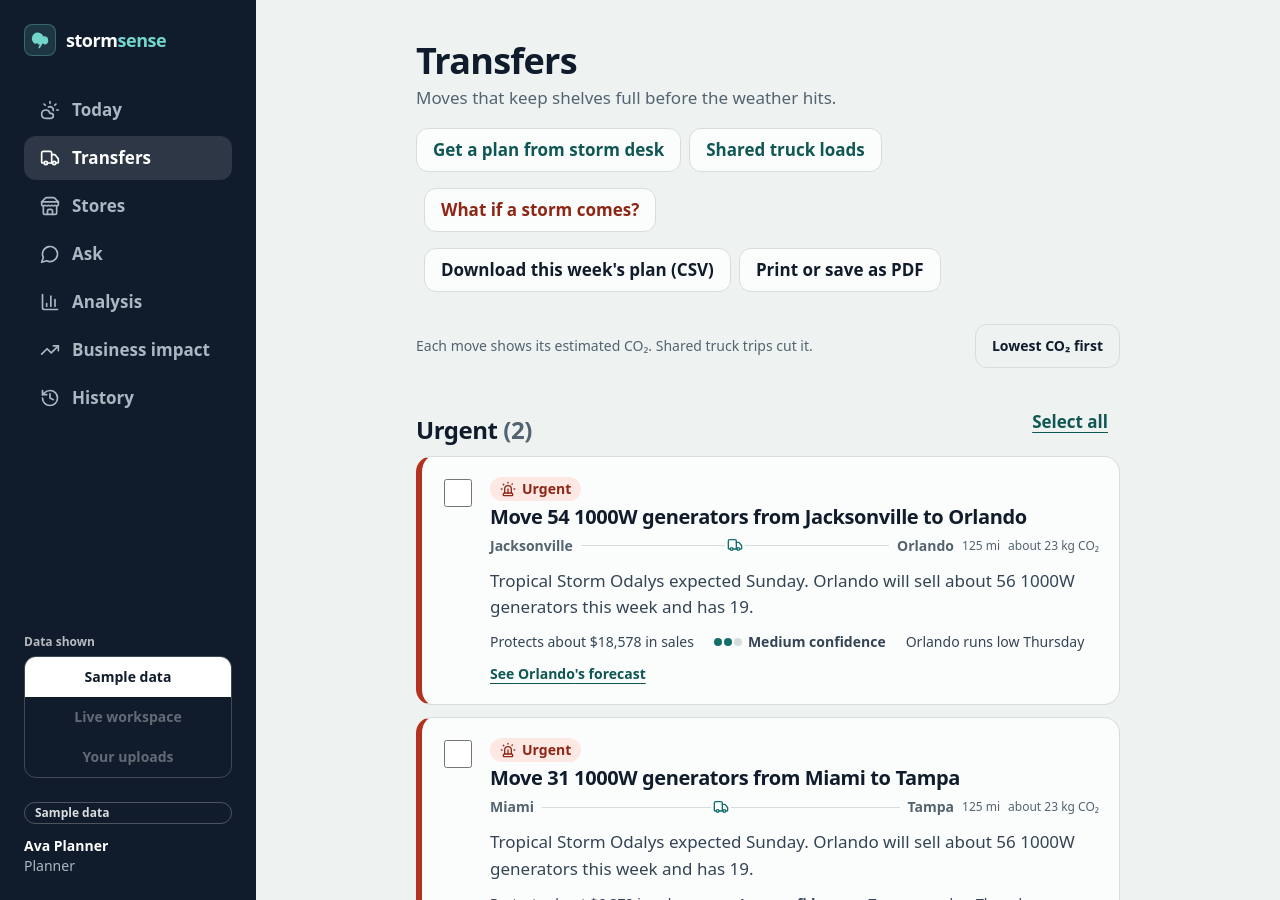
Test: Rejecting a move asks for a reason › keeps Reject disabled until a reason is chosen, then records it
The width and height of the screenshot is (1280, 900).
Click the checkbox labelled "Move 54 1000W generators from Jacksonville to Orlando" at (458, 493), box [444, 479, 472, 507]
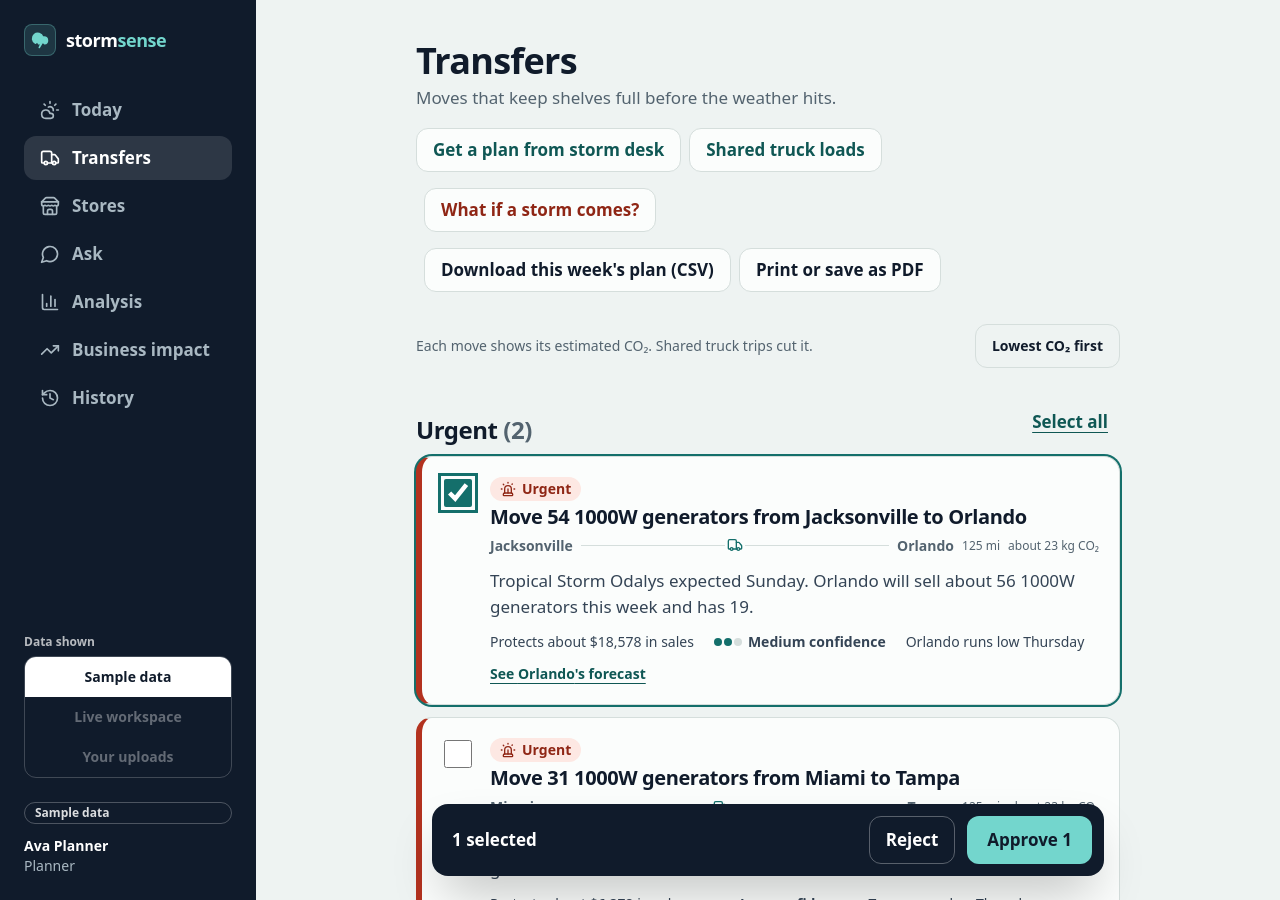
Click the button "Reject" at (912, 840), box [869, 816, 955, 864]
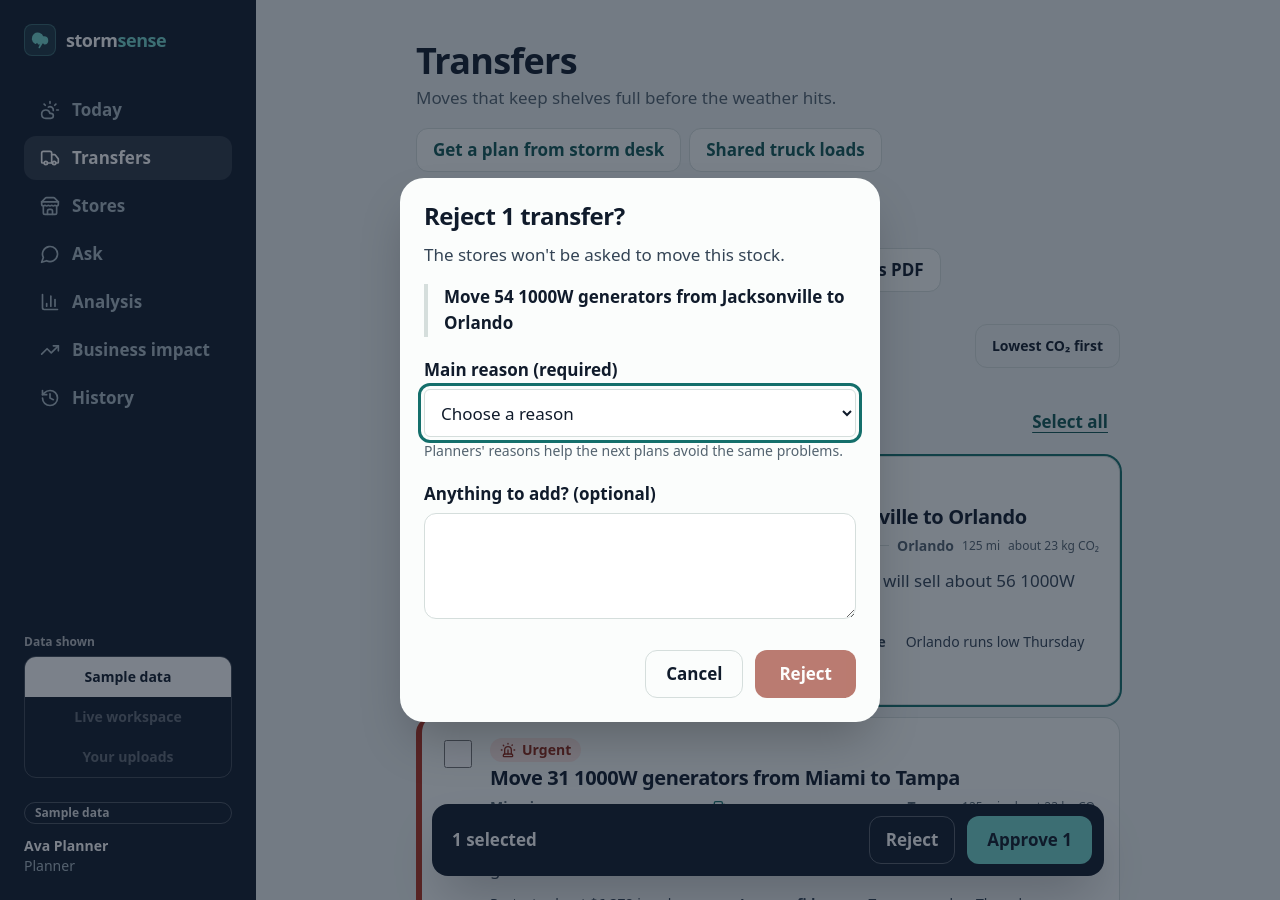
expect the submit button is disabled: met, box [755, 650, 856, 698]
Select "No truck free" in the dropdown at (640, 413), box [424, 389, 856, 437]
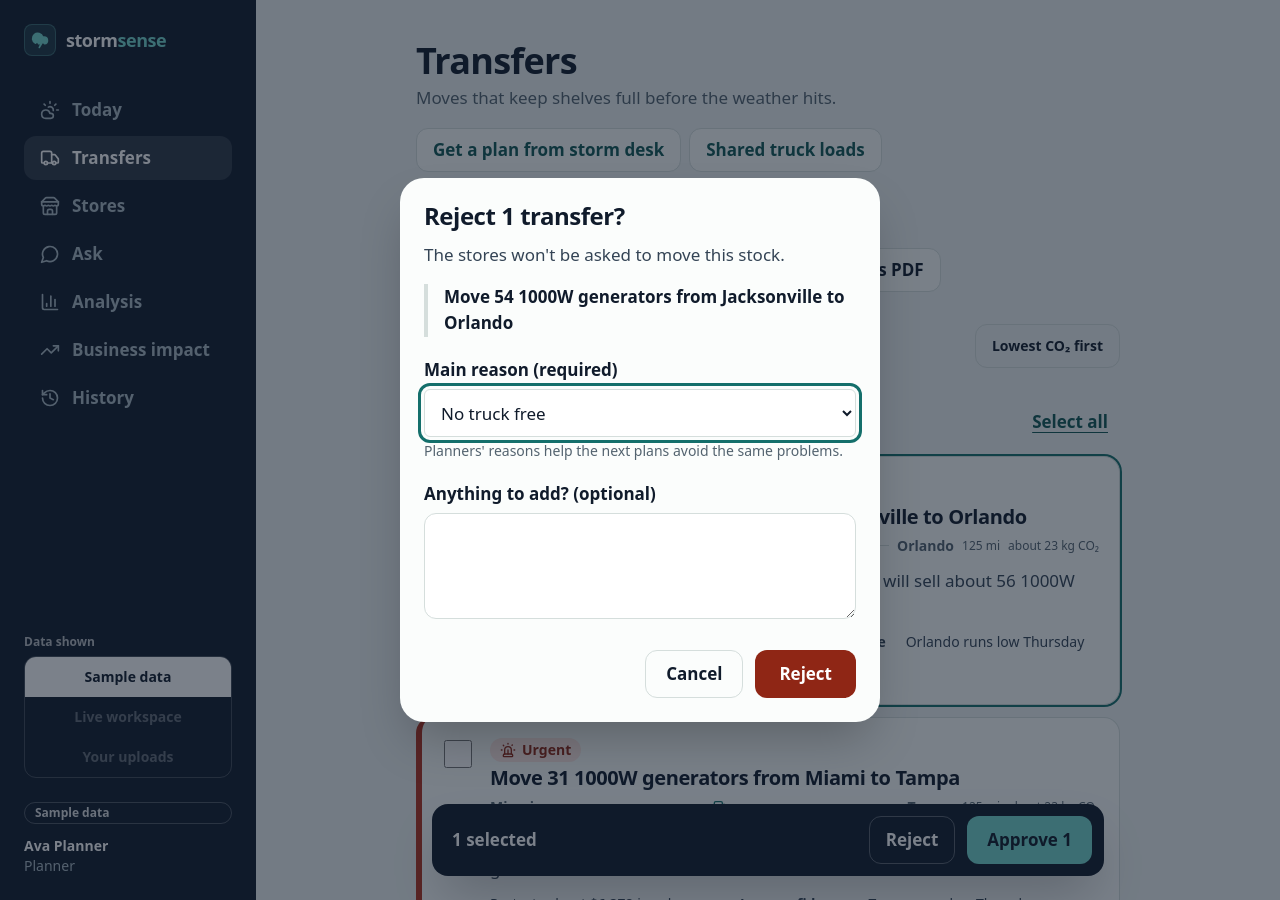
expect the submit button is enabled: met
Click the submit button at (806, 674), box [755, 650, 856, 698]
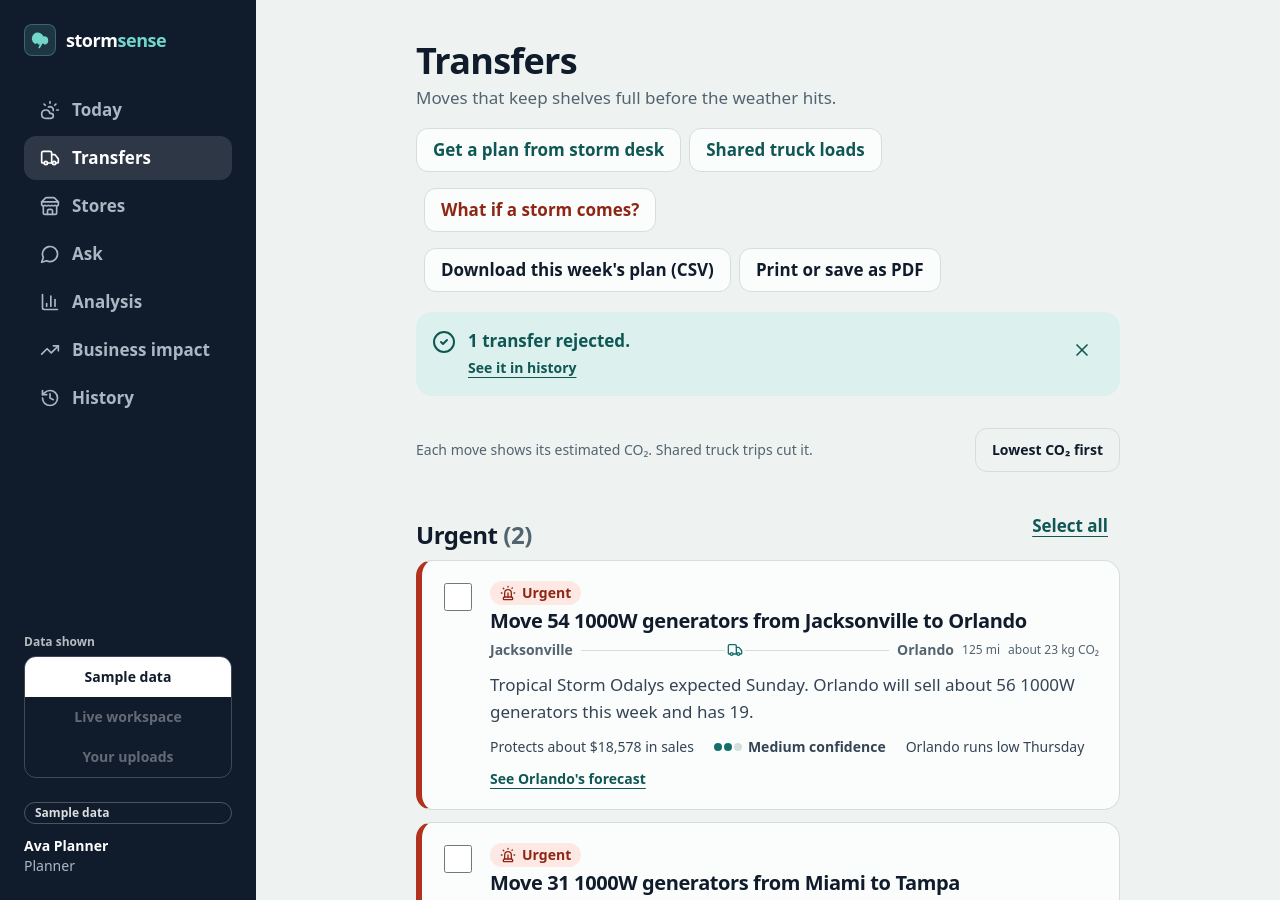
expect the text "1 transfer rejected." is shown: met, box [468, 329, 630, 352]
